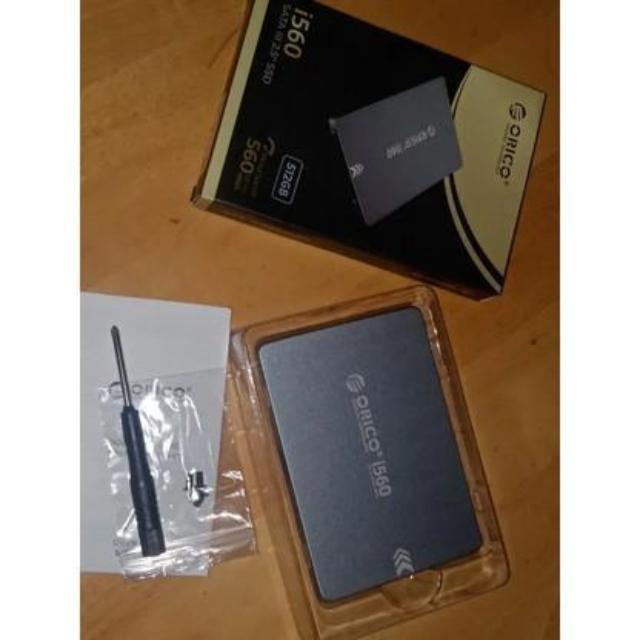DISK: (252, 321, 486, 608)
